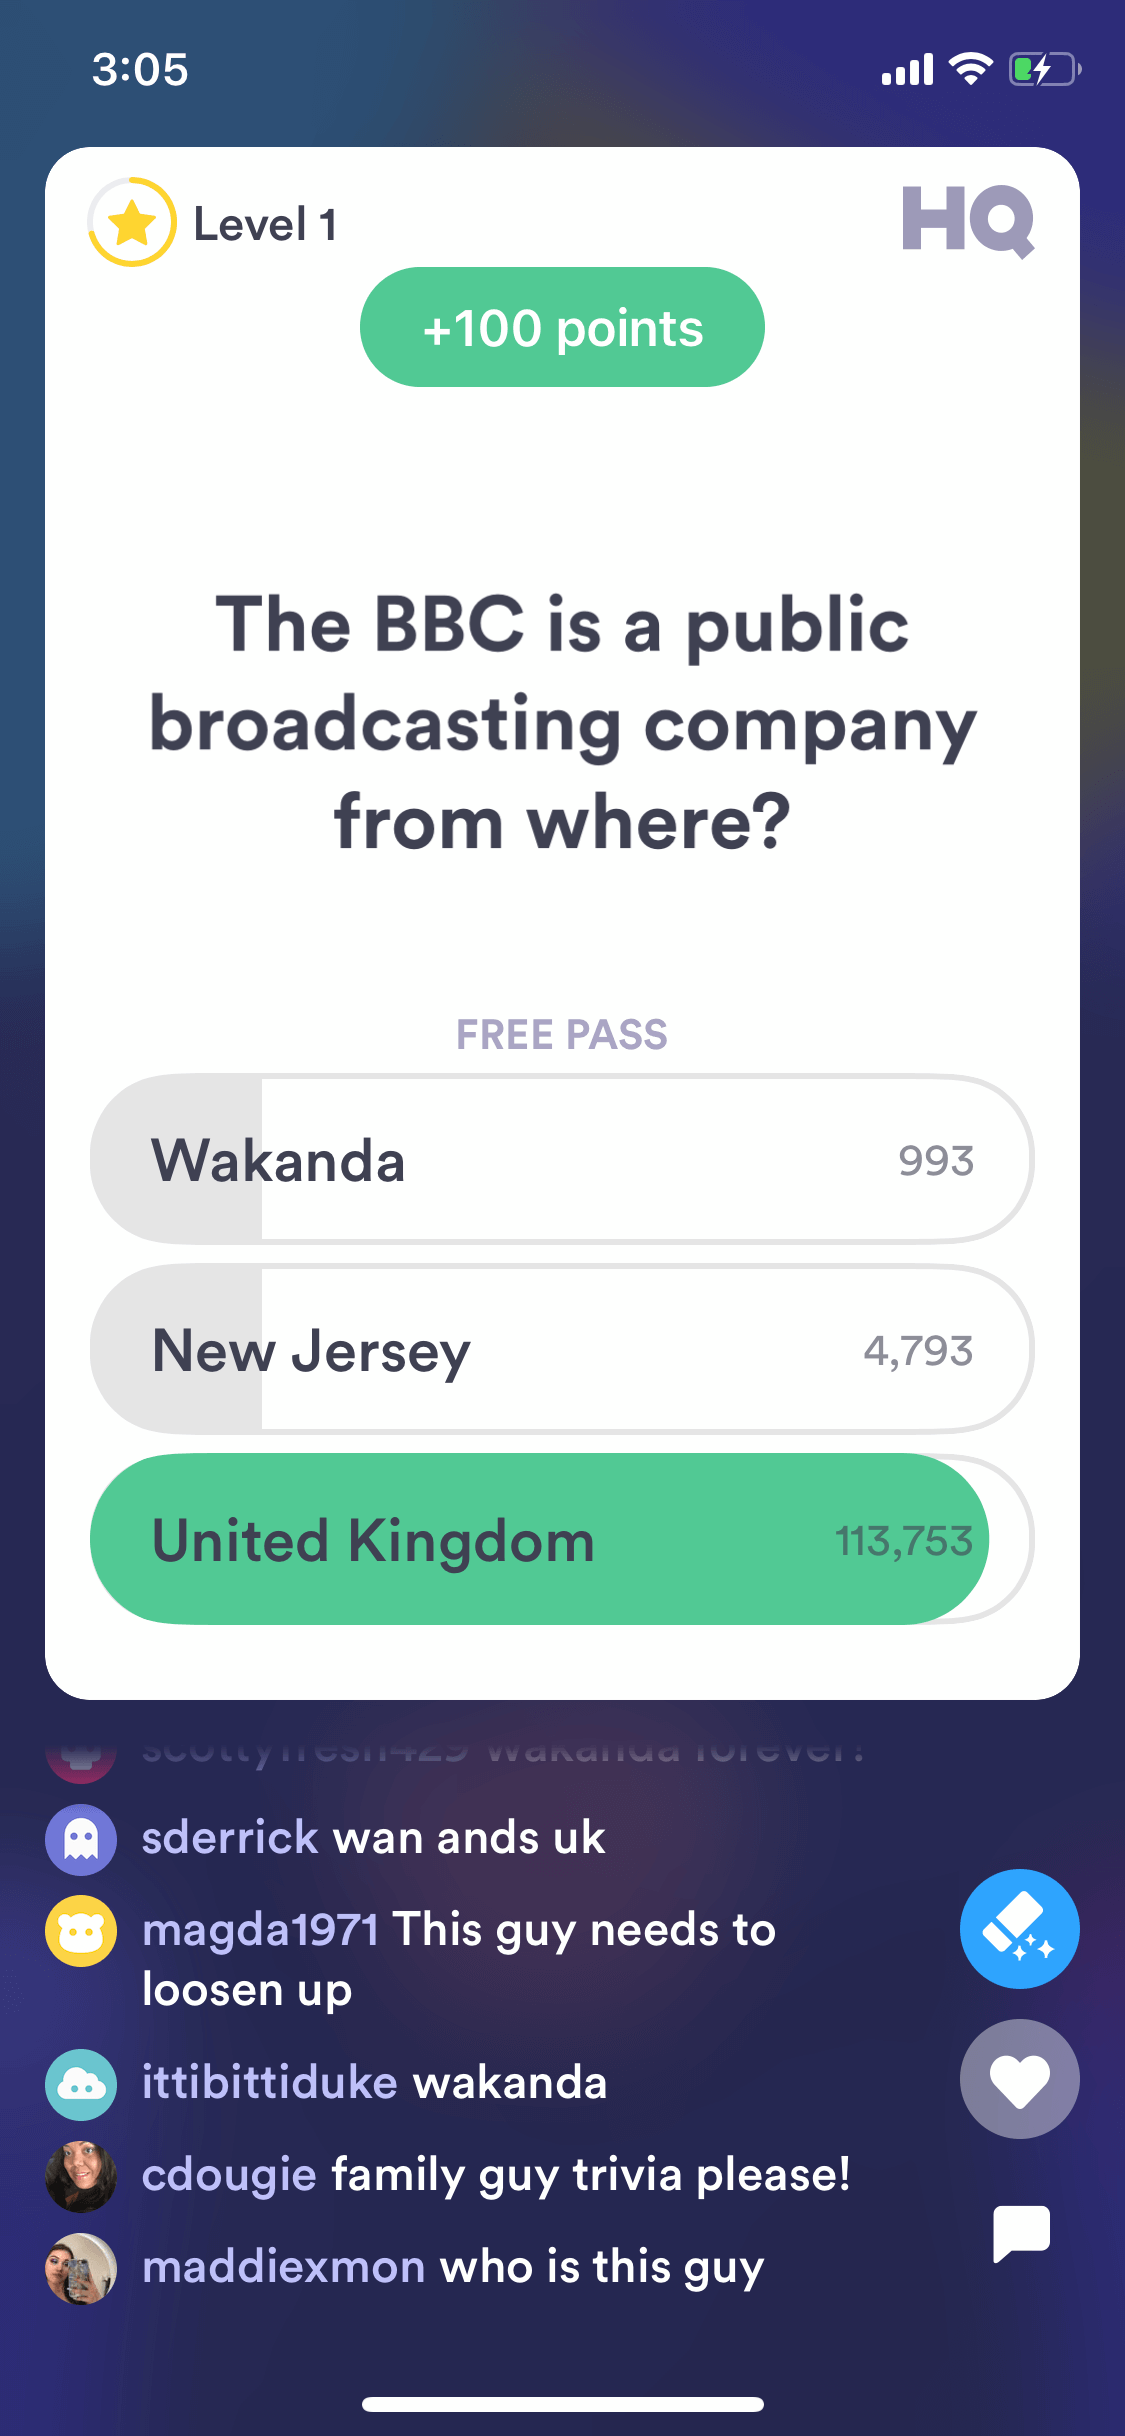Buttons: (333, 250, 800, 409)
FAB (Floating Action Button): (945, 2006, 1100, 2152), (946, 1857, 1102, 2001), (943, 2169, 1095, 2302)
